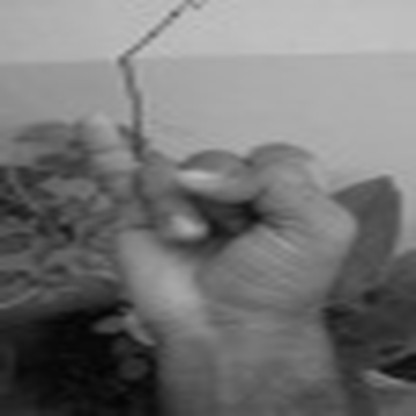i: (64, 100, 352, 320)
